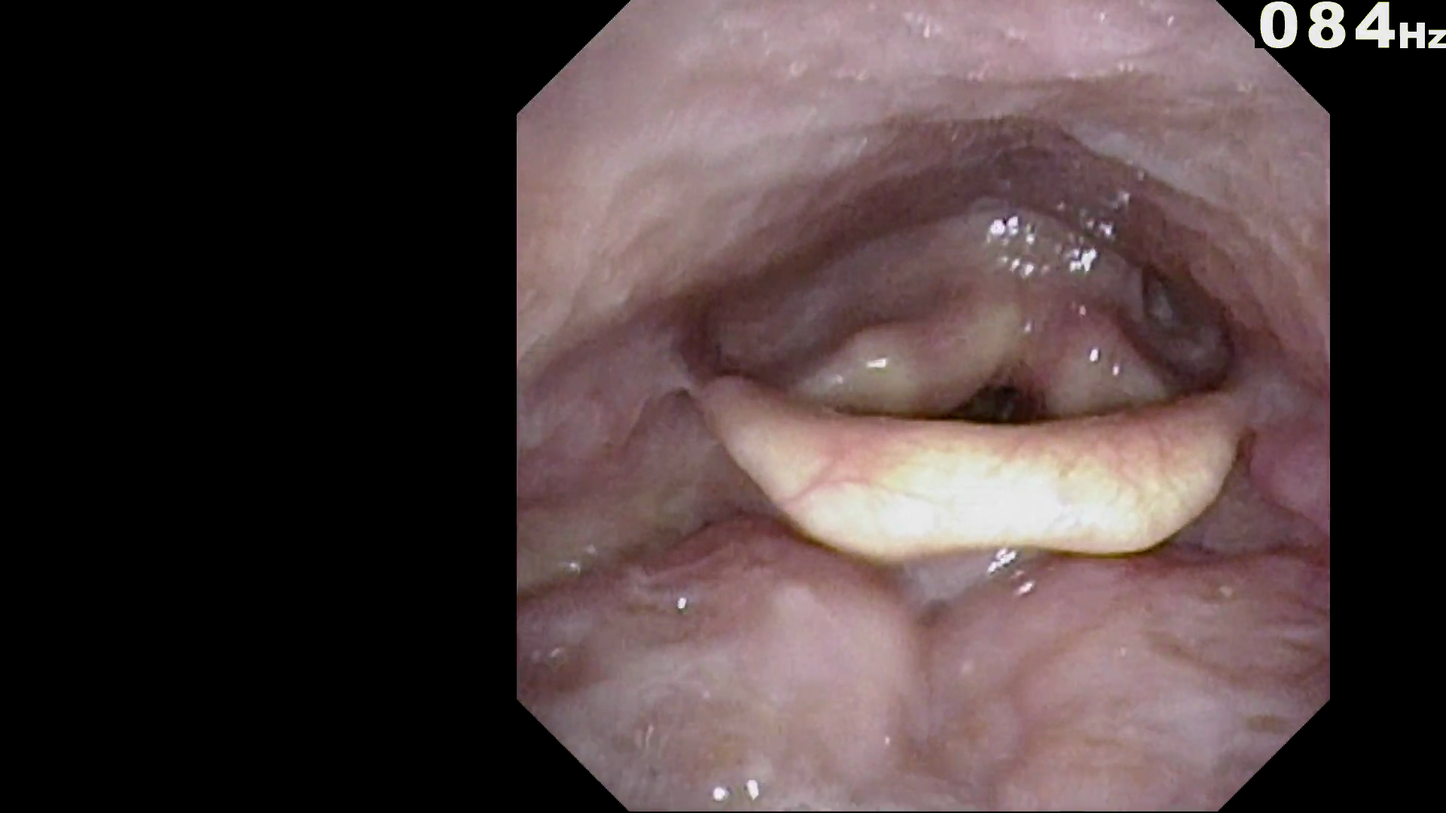epiglottis: (678, 341, 1275, 636)
trachea: (936, 364, 1046, 480)
